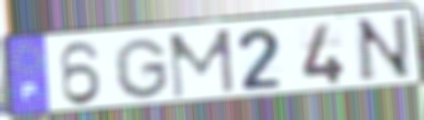2: (236, 26, 291, 94)
4: (300, 20, 347, 86)
6: (57, 40, 104, 108)
G: (111, 37, 171, 101)
M: (166, 27, 238, 102)
N: (353, 13, 416, 86)
